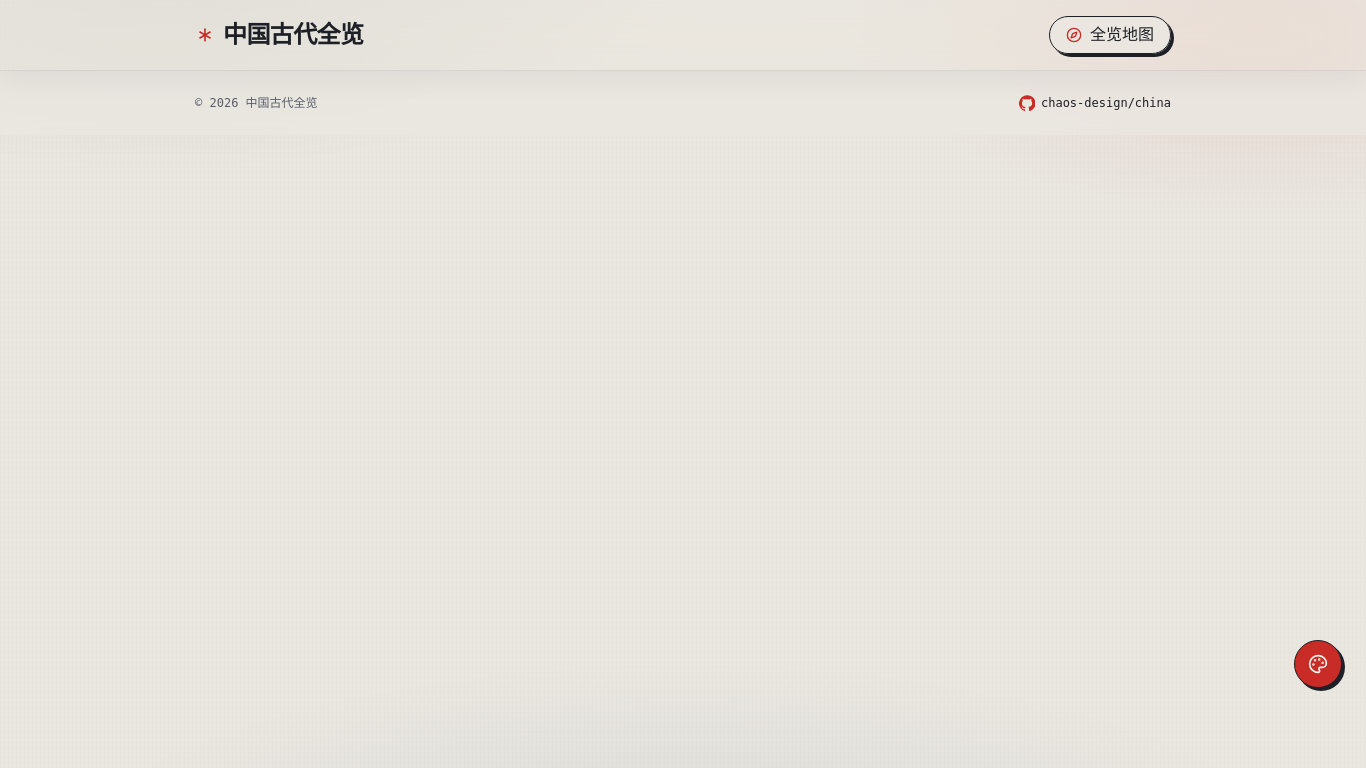
<SiteMenu /> keyboard and dismissal › closes when a destination is chosen
Click the button "全览地图".
click(1110, 35)  # box [1049,16,1171,54]
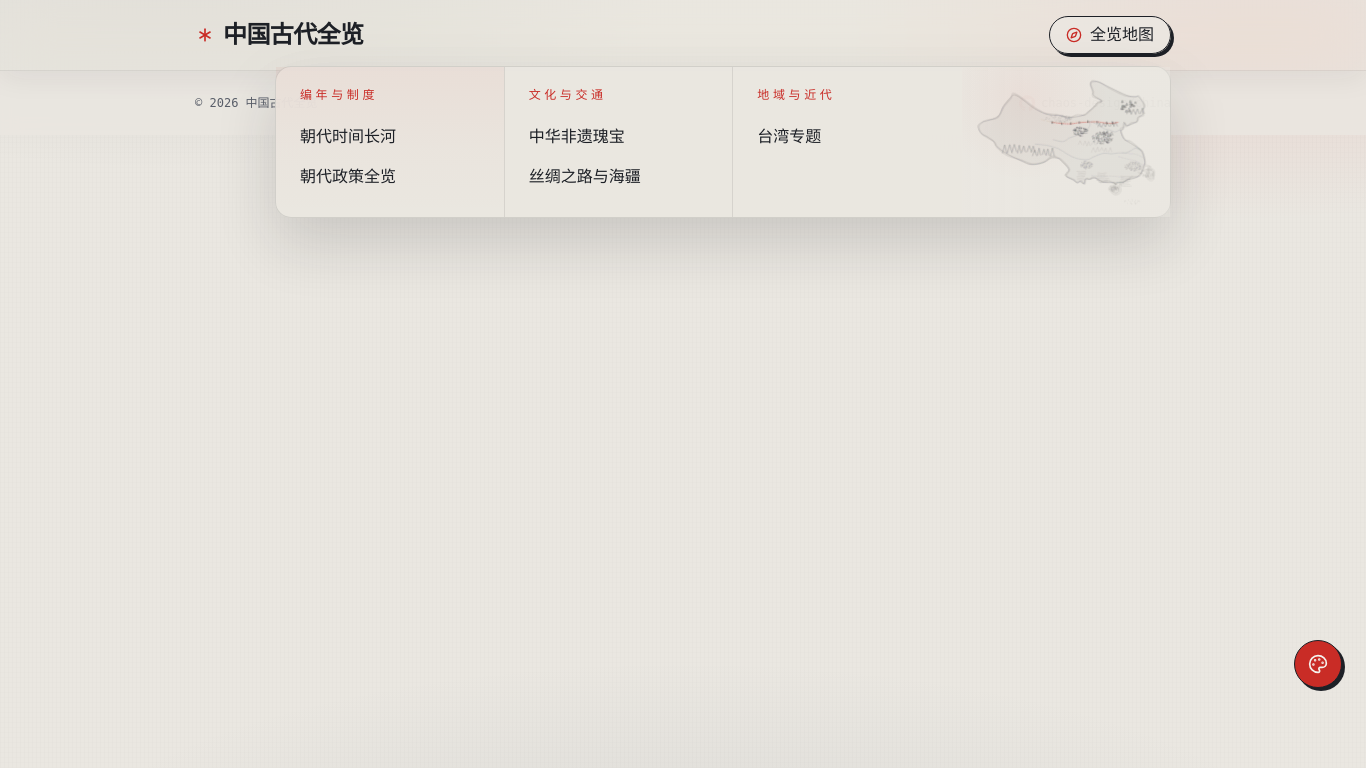
Click the link "丝绸之路与海疆".
click(585, 176)  # box [529,168,641,185]
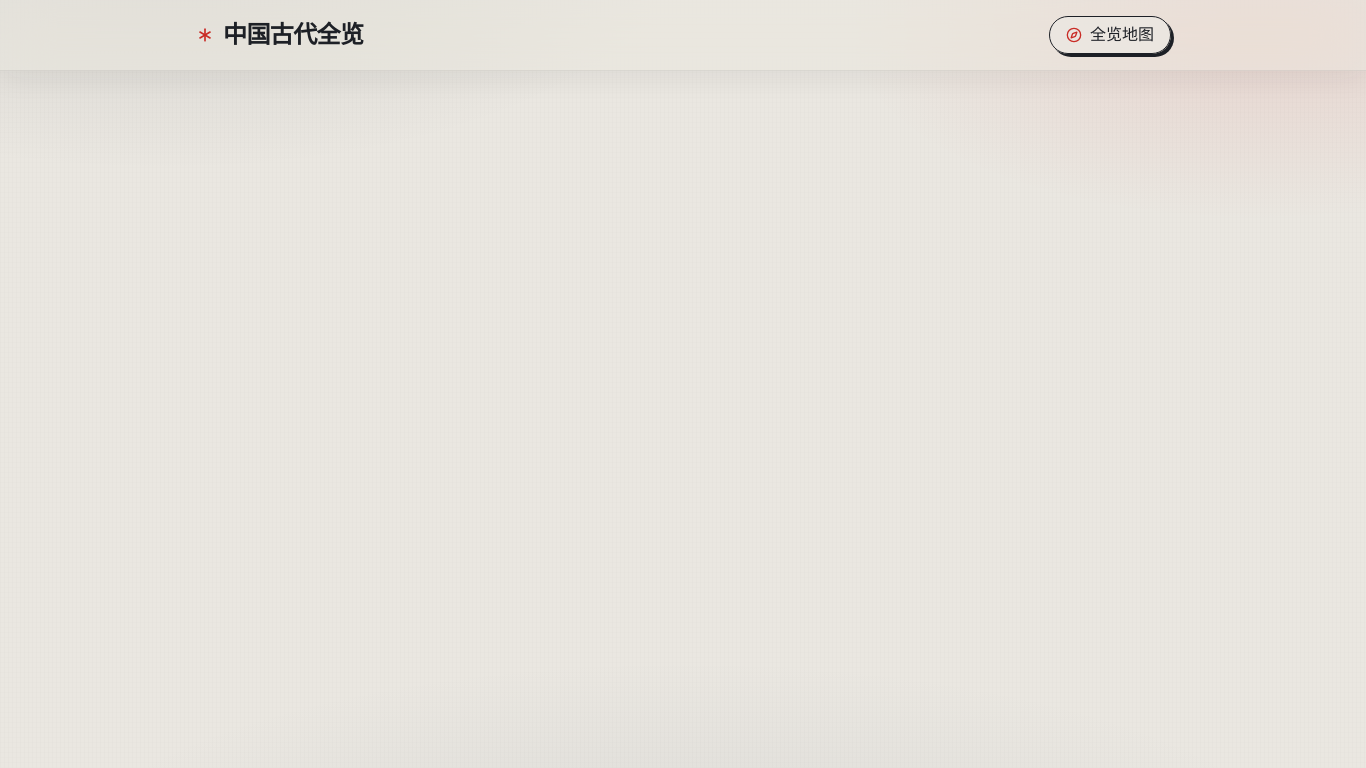
expect the field labelled "全览目录" is gone: met
